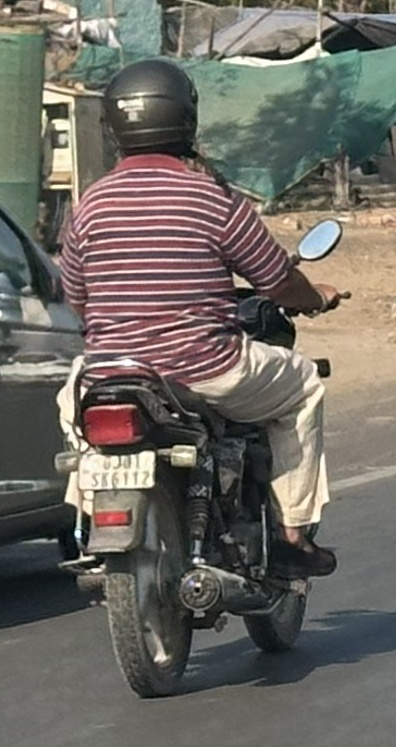BikeWithRider: (30, 52, 353, 705)
Helmet: (107, 63, 199, 162)
